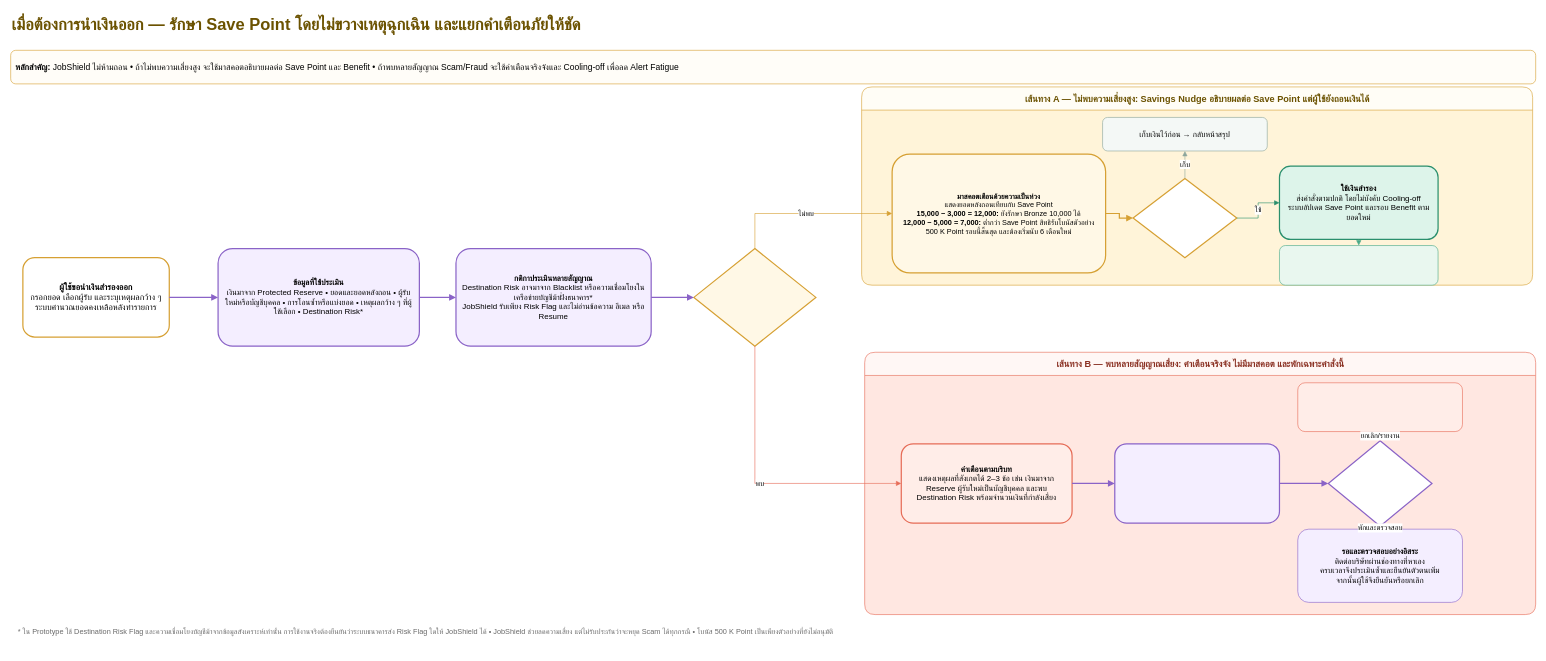
Image size: 1546x661. Some labels were removed from this diagram. The shapes that lost their labels are listed below. From the top down, each one's centre as x and y in pixels, then its label:
At pixel 1184 218: "ยังต้องการใช้ เงินสำรองหรือไม่?".
At pixel 1358 265: "มาสคอตส่งกำลังใจ: “ขอให้ทุกอย่างผ่านไปได้ด้วยดีนะ”".
At pixel 754 297: "พบสัญญาณเสี่ยง หลายข้อพร้อมกัน?".
At pixel 1379 407: "ยกเลิกและรายงาน เงินยังไม่ถูกส่ง ส่งข้อมูลเท่าที่จำเป็นเมื่อผู้ใช้ยินยอม".
At pixel 1197 483: "พักเฉพาะคำสั่งรายการนี้ เงินยังไม่ถูกส่งออก และยังไม่เข้าสู่ระบบโอน PromptPay".
At pixel 1379 483: "ผู้ใช้ต้องการ ทำอย่างไรต่อ?".
